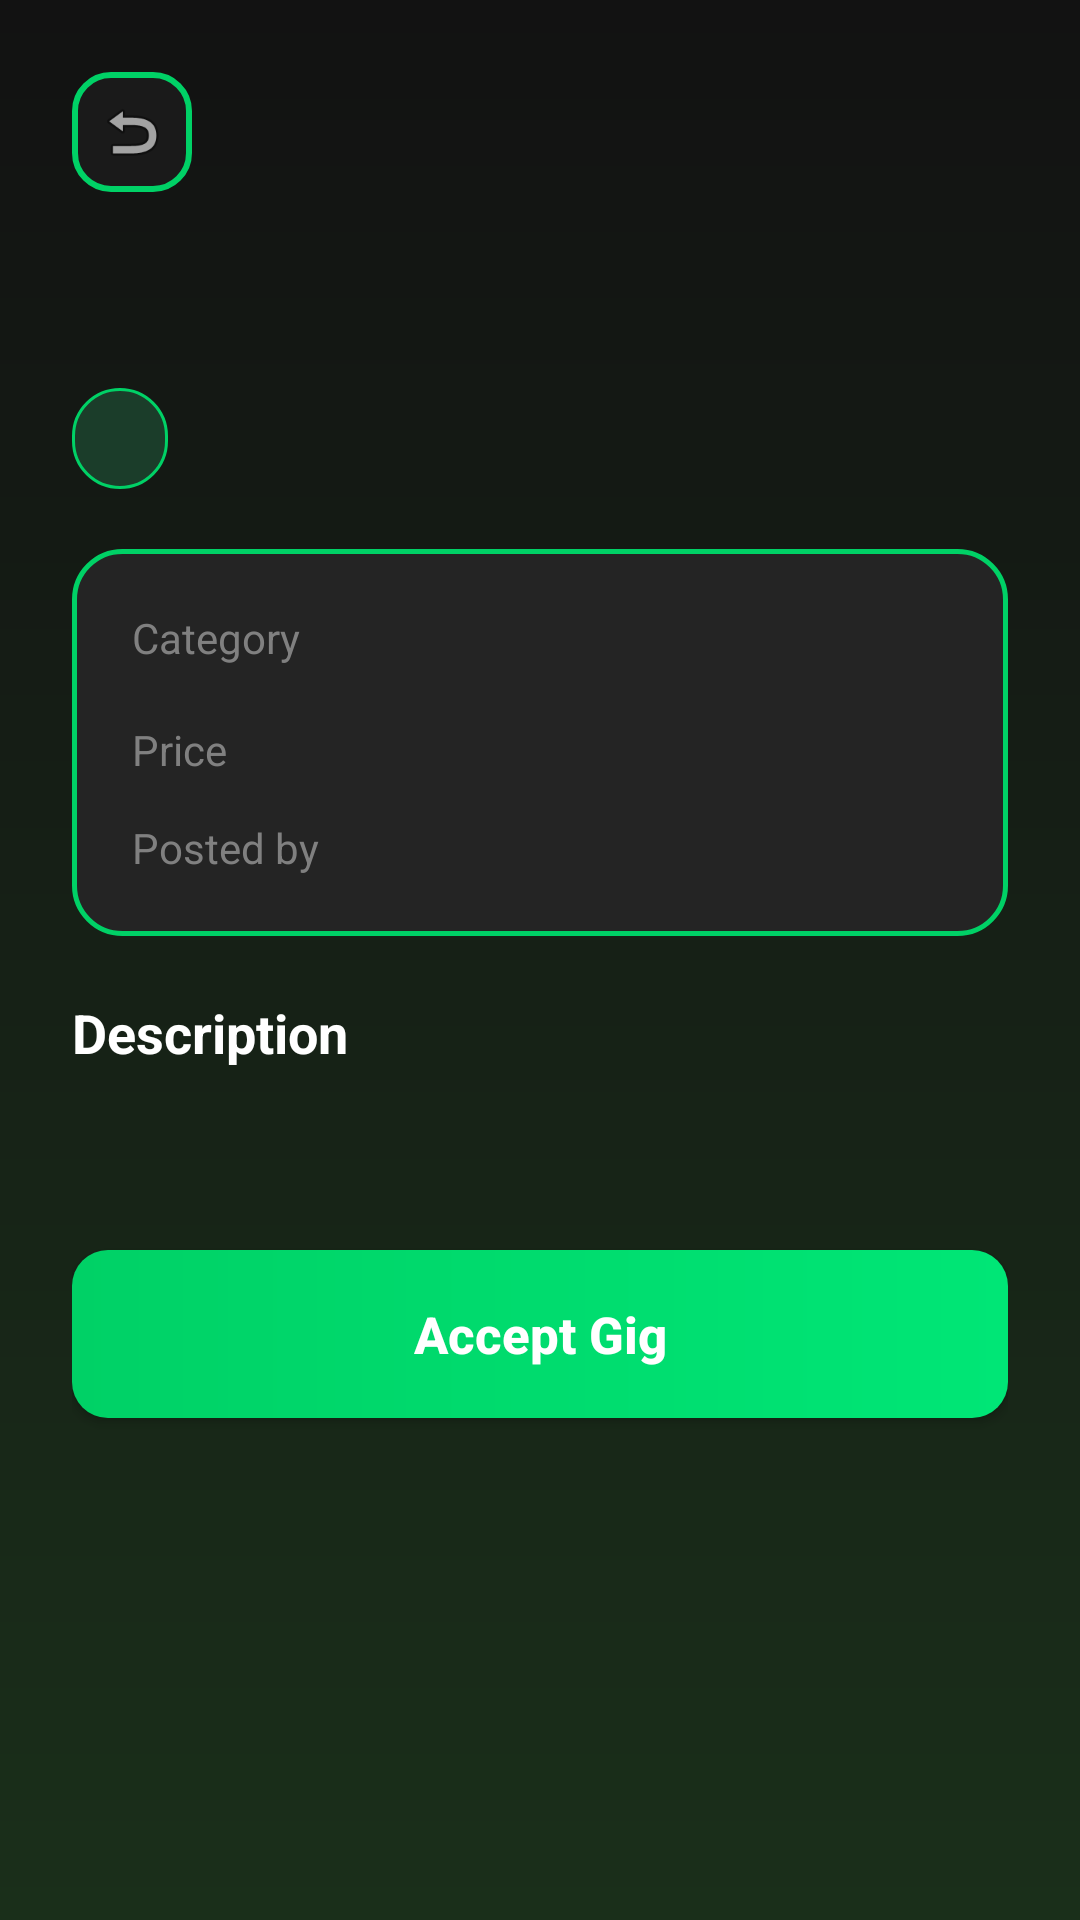

Icons on this 1080px×1920px Android screen, each with its box as rect(x1, y1, x2, y2):
Back: rect(72, 72, 192, 192)
